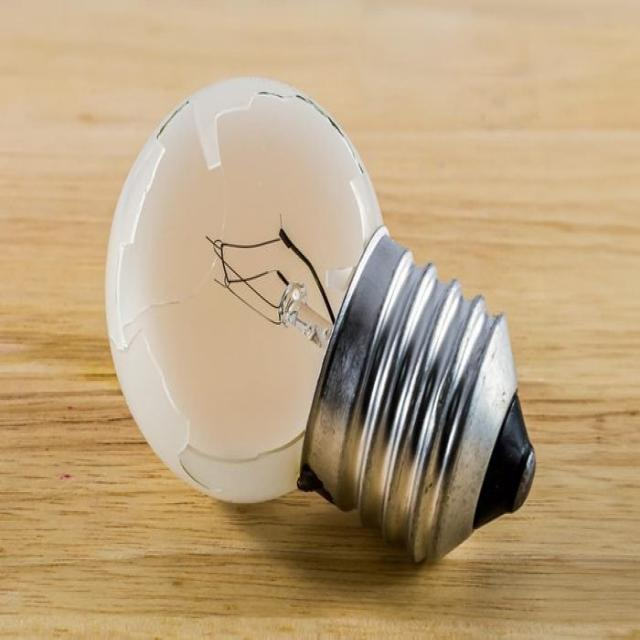bulb: (89, 41, 572, 561)
